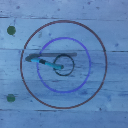Axe Tip: (31, 54, 41, 56)
